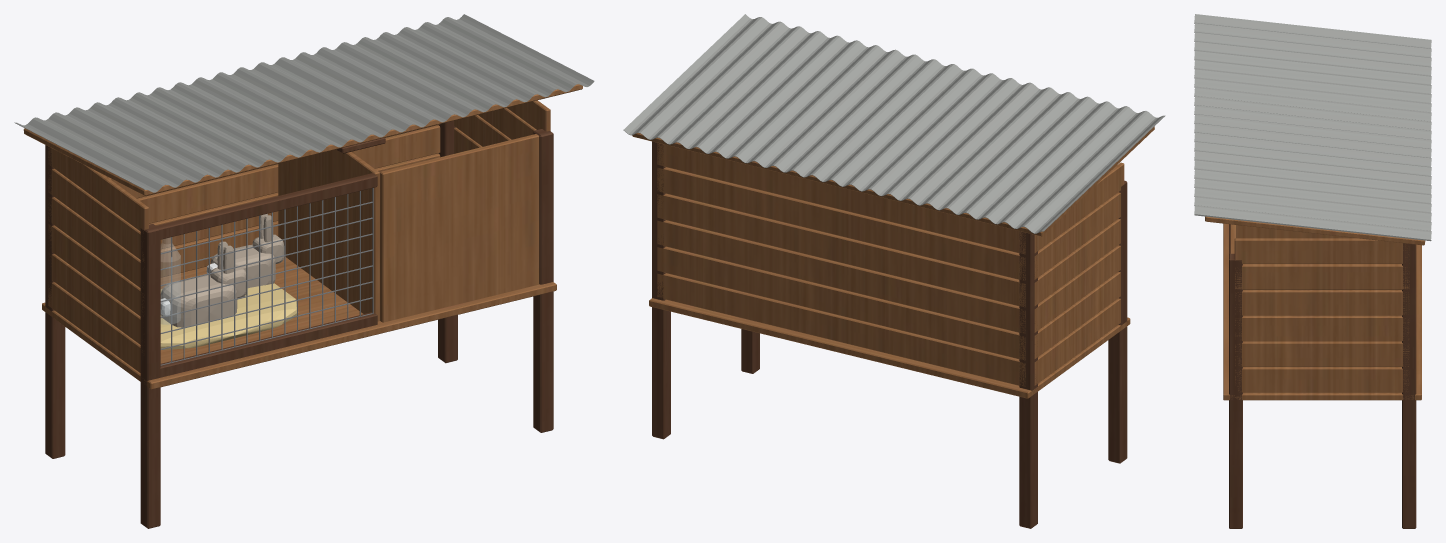
File: coelheira.glb
3 views of the same model, side by side, from view 1: azimuth 30°, elevation 25°; view 2: azimuth 150°, elevation 25°; view 3: azimuth 270°, elevation 25° (orthographic). The views are drawn at different scales.
Parts seen in each view (by area): view 1: coelheira_madeira, coelheira_tampa_telha_ondulada, coelheira_madeira_escura, coelheira_tela_galinheiro, coelheira_pele_coelho, coelheira_palha, coelheira_tampa_madeira, coelheira_pet; view 2: coelheira_madeira, coelheira_tampa_telha_ondulada, coelheira_madeira_escura, coelheira_tampa_madeira; view 3: coelheira_tampa_telha_ondulada, coelheira_madeira, coelheira_madeira_escura, coelheira_tampa_madeira.
Part boxes in pixels (left/top/right/bottom): coelheira_madeira: left=42, top=100, right=556, bottom=389; coelheira_tampa_telha_ondulada: left=14, top=14, right=594, bottom=192; coelheira_madeira_escura: left=45, top=120, right=553, bottom=528; coelheira_tela_galinheiro: left=160, top=188, right=373, bottom=365; coelheira_pele_coelho: left=160, top=213, right=284, bottom=327; coelheira_palha: left=160, top=283, right=298, bottom=349; coelheira_tampa_madeira: left=23, top=84, right=582, bottom=195; coelheira_pet: left=161, top=237, right=180, bottom=324; coelheira_madeira: left=649, top=143, right=1130, bottom=398; coelheira_tampa_telha_ondulada: left=623, top=14, right=1165, bottom=233; coelheira_madeira_escura: left=652, top=141, right=1127, bottom=528; coelheira_tampa_madeira: left=632, top=126, right=1154, bottom=236; coelheira_tampa_telha_ondulada: left=1194, top=14, right=1431, bottom=241; coelheira_madeira: left=1223, top=223, right=1421, bottom=400; coelheira_madeira_escura: left=1229, top=224, right=1416, bottom=528; coelheira_tampa_madeira: left=1205, top=216, right=1425, bottom=245.
Bounding box in the file's own units: 1.66 × 1.27 × 0.8363.
10 materials, 2 textured.
